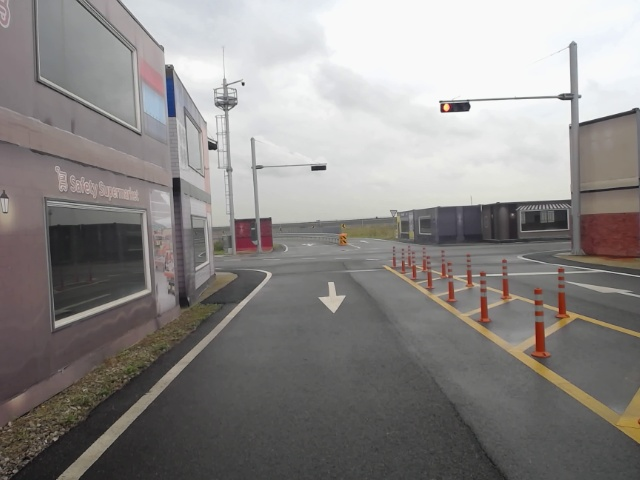red_3: (440, 99, 471, 113)
